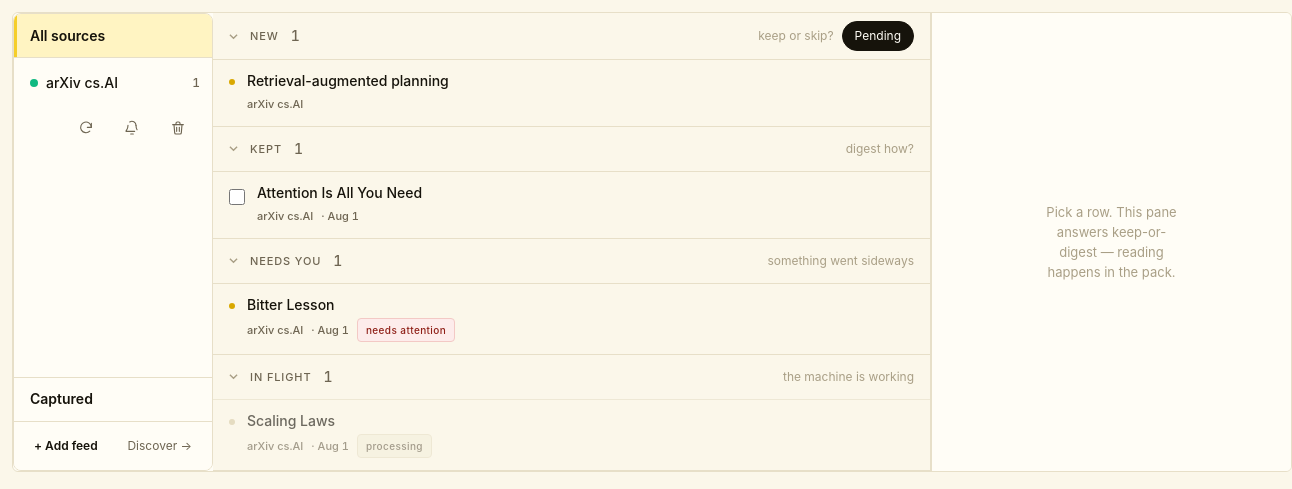
Test case: stage 1 → stage 2 › opening an entry marks it seen but keeps it in the queue
Click the button "Retrieval-augmented planning" at coordinates (348, 80), box 247,72 -> 791,91
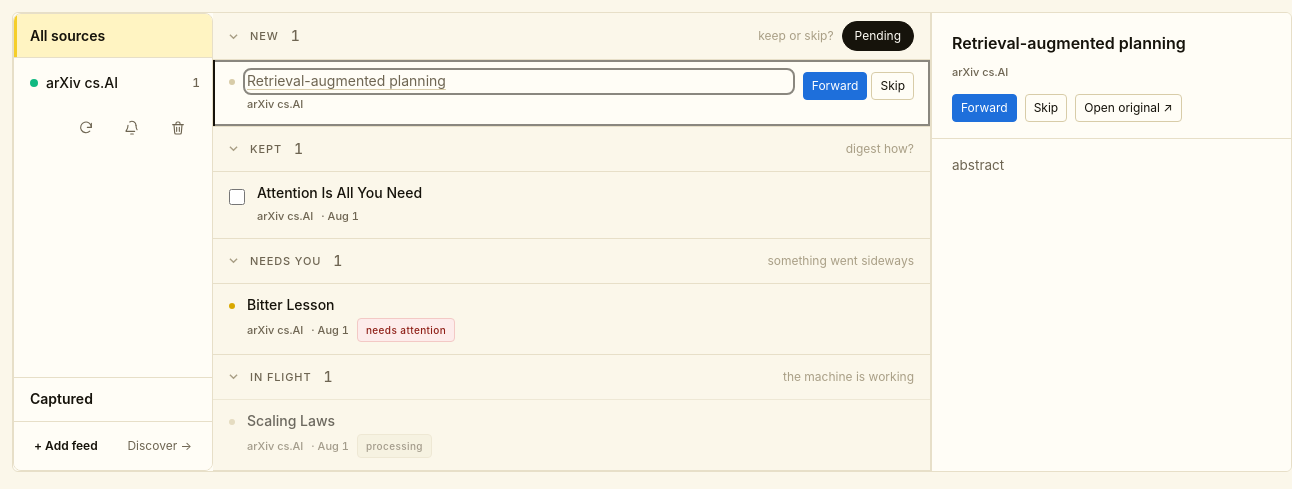
Expected: the heading "Retrieval-augmented planning" is shown, 952,33 -> 1186,53
